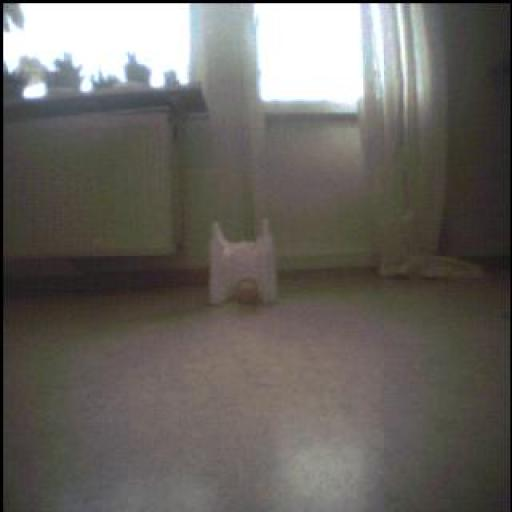Basket: (235, 276, 262, 306)
